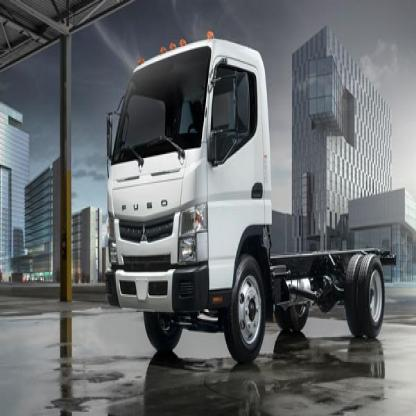truck: (107, 28, 397, 358)
